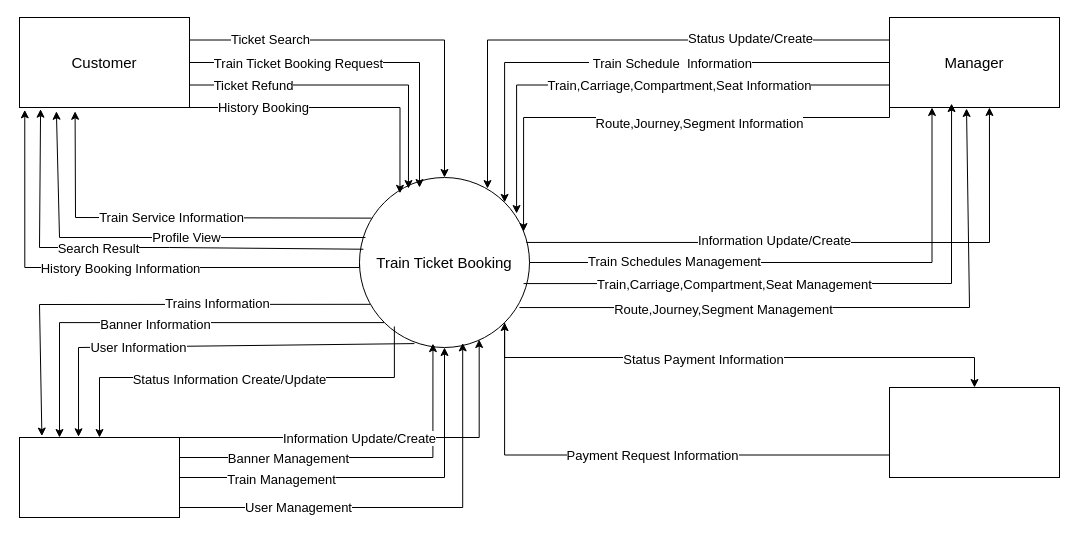
Image size: 1077x535. Some labels were removed from this diagram. The shapes that lost their labels are listed below. From the top down, each one's centre as x and y in pixels, then its label:
At (x=974, y=432): "Payment Gateway".
At (x=99, y=477): "Admin".
